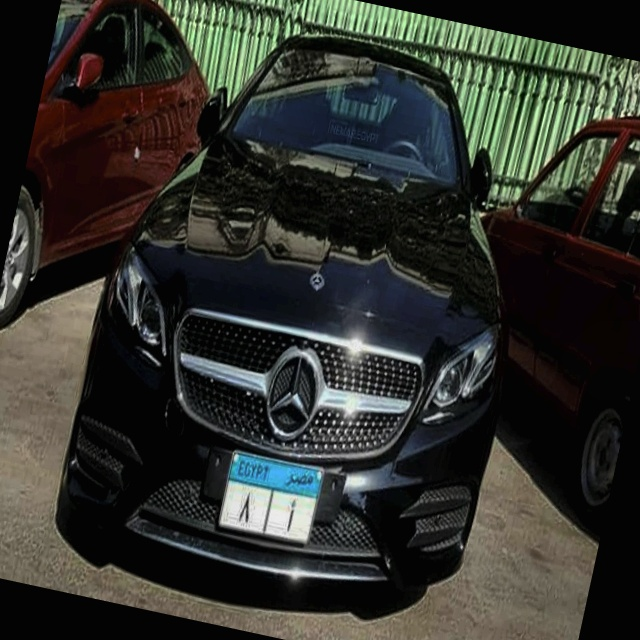License Plate: (213, 443, 328, 550)
